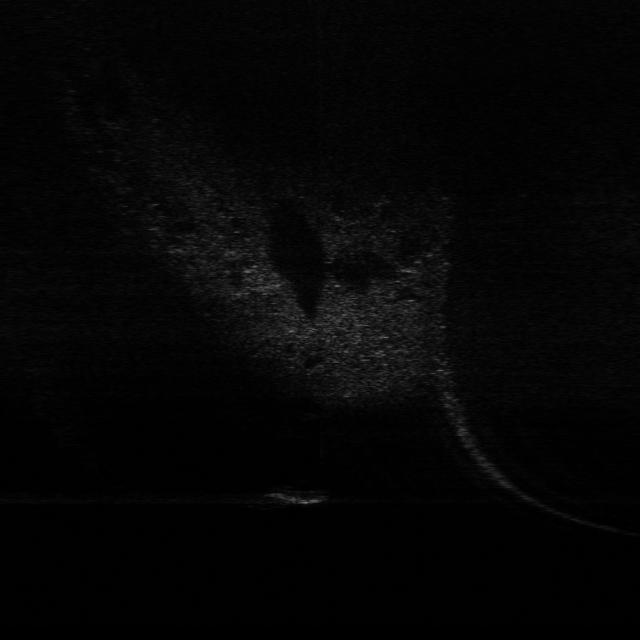cube: (250, 478, 330, 511)
